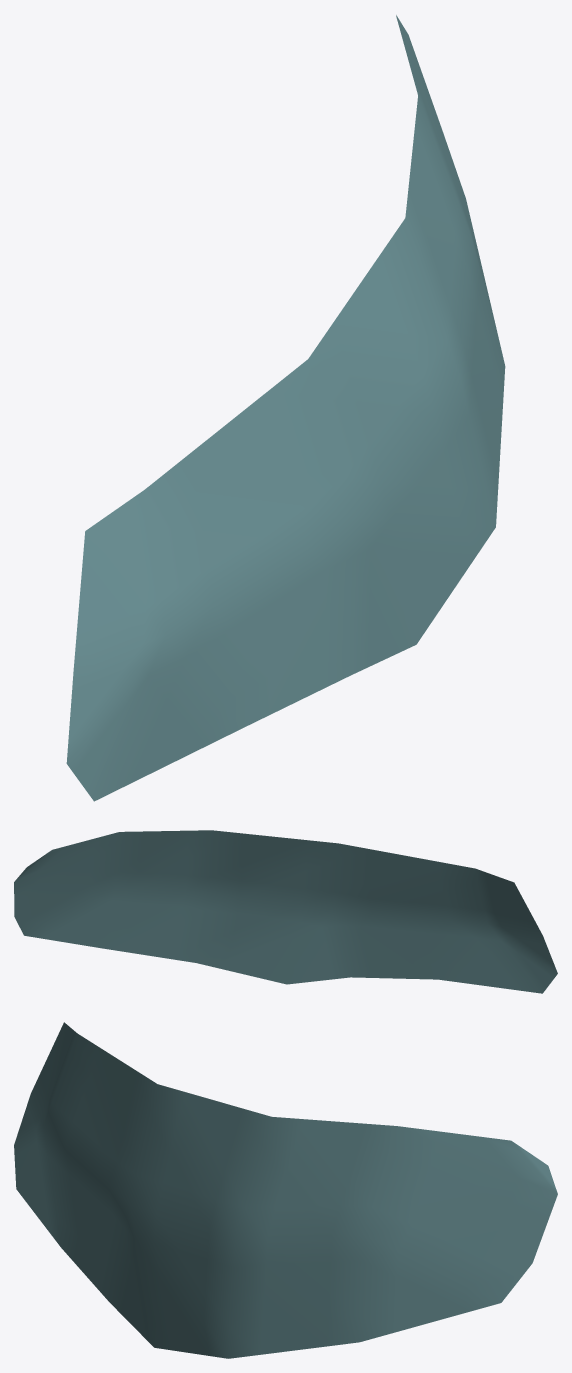
Rendered from SUV_1_Window_Light_L_Tessellate.fbx.
The picture shows the model from 3 angles, top to bottom: view 1: azimuth 30°, elevation 25°; view 2: azimuth 150°, elevation 25°; view 3: azimuth 270°, elevation 25°; orthographic projection. The views are drawn at different scales.
Visible parts, largest first — view 1: SUV_1_Window_Light_L_Tessellate; view 2: SUV_1_Window_Light_L_Tessellate; view 3: SUV_1_Window_Light_L_Tessellate.
Part boxes in pixels (box(x1,y1,x2,y2)): SUV_1_Window_Light_L_Tessellate: box(66, 15, 505, 801); SUV_1_Window_Light_L_Tessellate: box(14, 830, 557, 993); SUV_1_Window_Light_L_Tessellate: box(14, 1022, 557, 1358).
Size of the model in its own units: 32.41 by 16.62 by 28.54.
